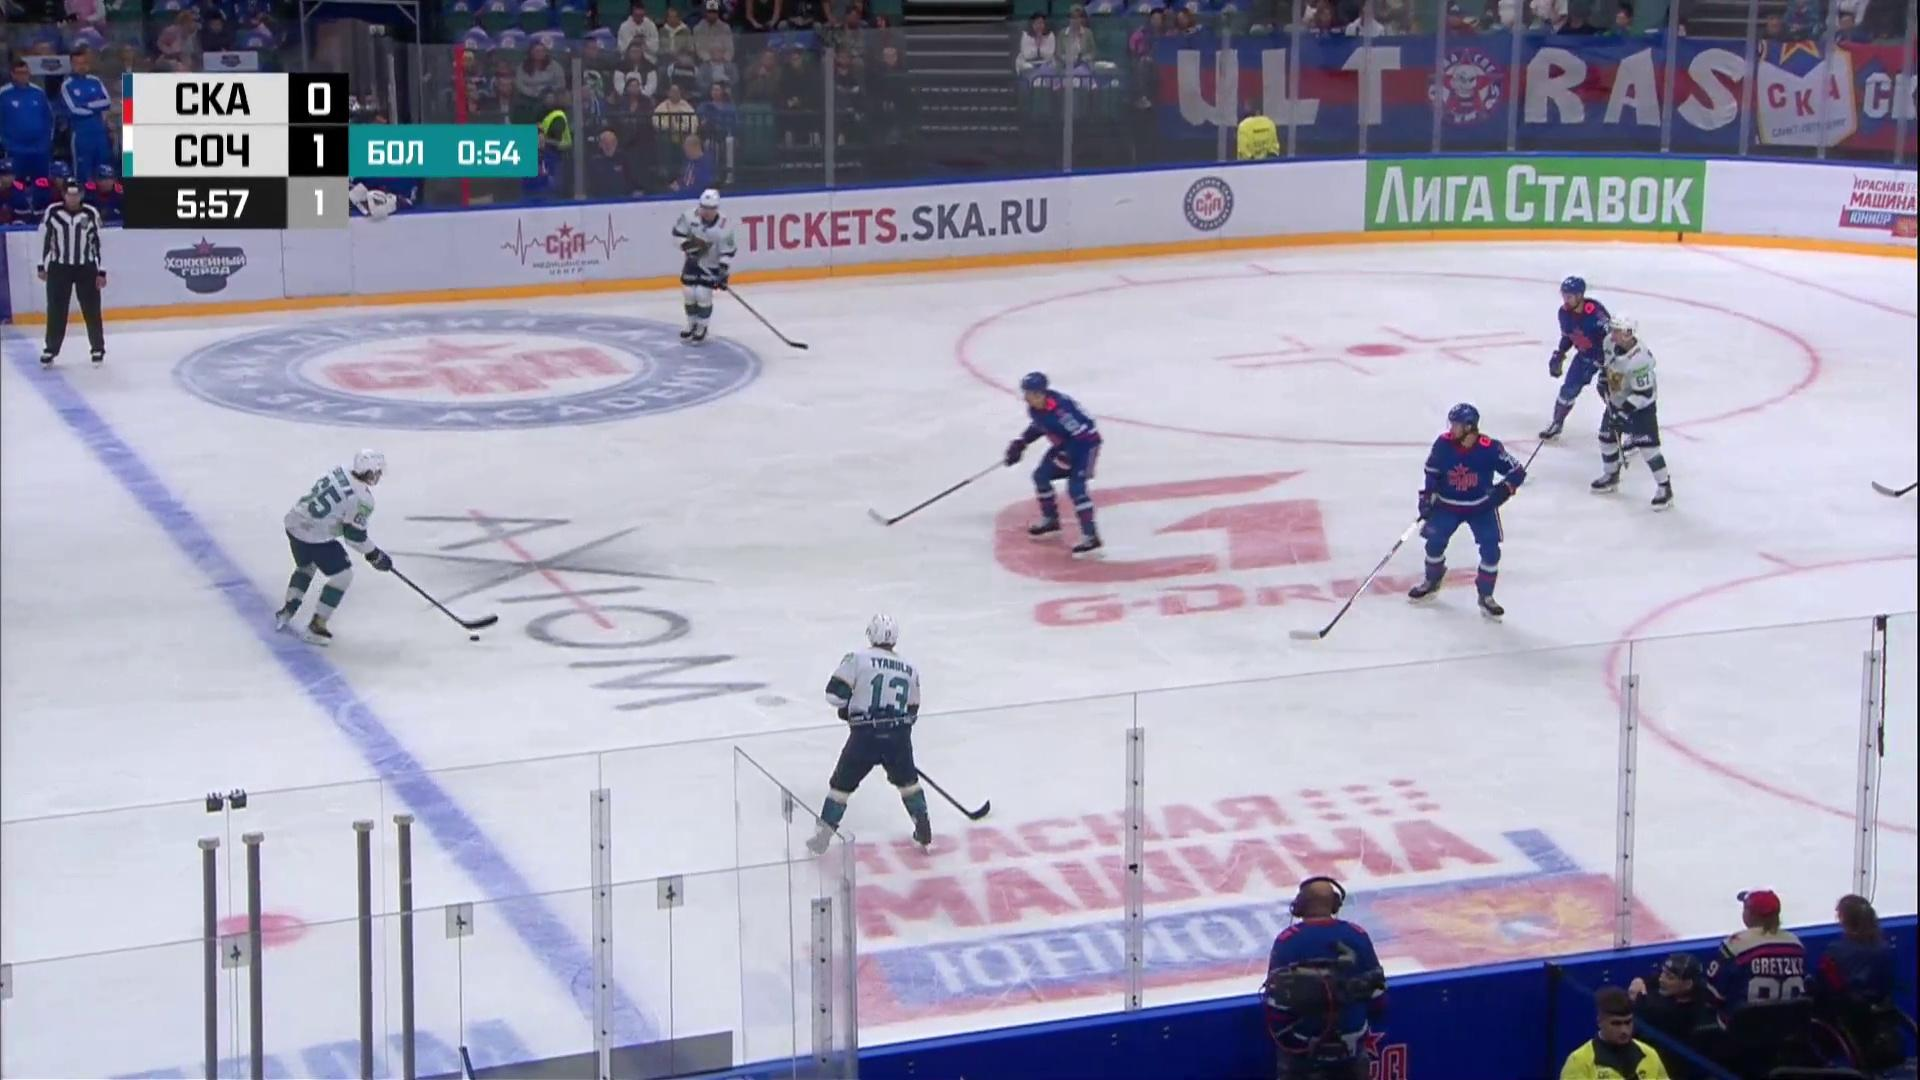ball: (469, 636, 480, 642)
